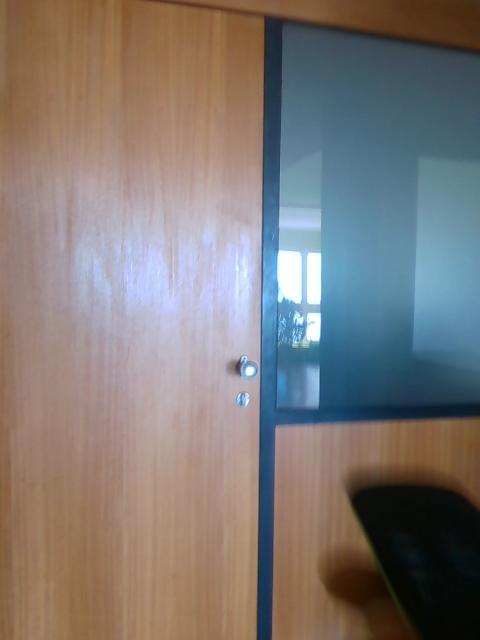door: (0, 3, 262, 638)
